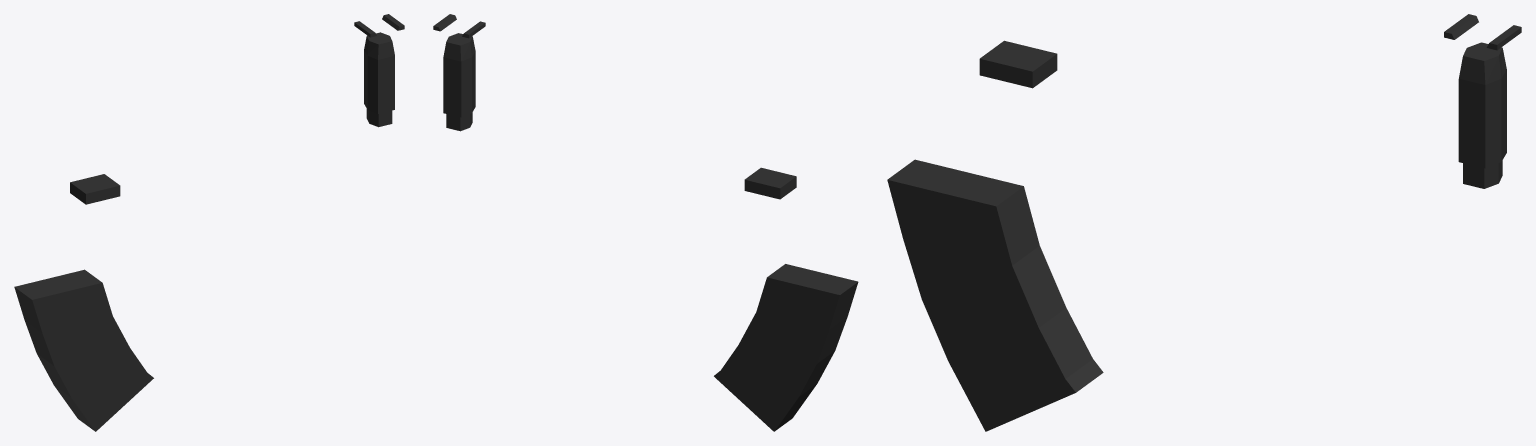
The model's file is foregrip.obj.
3 renders of one model, left to right at view 1: azimuth 30°, elevation 25°; view 2: azimuth 150°, elevation 25°; view 3: azimuth 330°, elevation 25°, orthographic. The views are drawn at different scales.
Parts seen in each view (by area): view 1: ammoModel1, ammoModel2, ammoModel3, ammoModel4, grip_6, grip, grip_4; view 2: ammoModel1, ammoModel2, ammoModel3, ammoModel4, grip_5, grip, grip_3; view 3: ammoModel1, ammoModel2, ammoModel3, ammoModel4, grip_6, grip, grip_4, grip_8.
Boxes of the visible parts, x1,y1,x2,y2 form: ammoModel1: [14, 269, 112, 333]; ammoModel2: [25, 316, 129, 366]; ammoModel3: [37, 348, 146, 397]; ammoModel4: [54, 372, 153, 431]; grip_6: [367, 56, 394, 113]; grip: [70, 174, 120, 204]; grip_4: [367, 36, 394, 59]; ammoModel1: [756, 264, 858, 329]; ammoModel2: [738, 312, 847, 363]; ammoModel3: [721, 345, 834, 396]; ammoModel4: [714, 370, 816, 431]; grip_5: [443, 57, 471, 117]; grip: [744, 167, 796, 199]; grip_3: [443, 37, 471, 61]; ammoModel1: [887, 159, 1039, 265]; ammoModel2: [903, 239, 1066, 327]; ammoModel3: [922, 299, 1092, 378]; ammoModel4: [949, 359, 1103, 431]; grip_6: [1458, 78, 1501, 168]; grip: [979, 40, 1057, 88]; grip_4: [1459, 48, 1501, 84]; grip_8: [1463, 163, 1498, 188].
Bounding box in the file's own units: 11.15 × 8.9 × 1.35.
